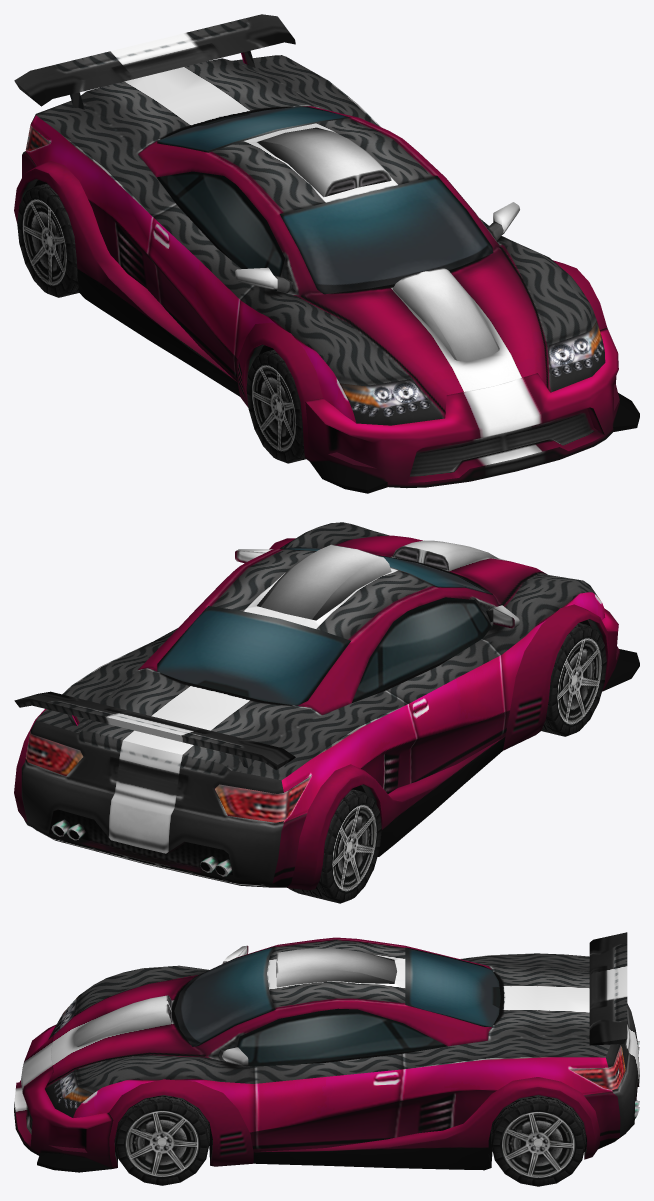
The picture shows the model from 3 angles, top to bottom: view 1: azimuth 30°, elevation 25°; view 2: azimuth 150°, elevation 25°; view 3: azimuth 270°, elevation 25°; orthographic projection. The views are drawn at different scales.
Visible parts, largest first — view 1: player_chassis, veh_wheel_b, veh_wheel_fr; view 2: player_chassis, veh_wheel_b, veh_wheel_fr; view 3: player_chassis, veh_wheel_b, veh_wheel_fl.
Part boxes in pixels (<box>): player_chassis: <box>14,14,639,493</box>; veh_wheel_b: <box>17,183,79,297</box>; veh_wheel_fr: <box>246,350,306,463</box>; player_chassis: <box>14,522,639,890</box>; veh_wheel_b: <box>24,789,381,903</box>; veh_wheel_fr: <box>541,623,606,736</box>; player_chassis: <box>14,932,639,1172</box>; veh_wheel_b: <box>491,1095,585,1186</box>; veh_wheel_fl: <box>115,1095,209,1185</box>.
Bounding box in the file's own units: 214 × 133 × 451.
